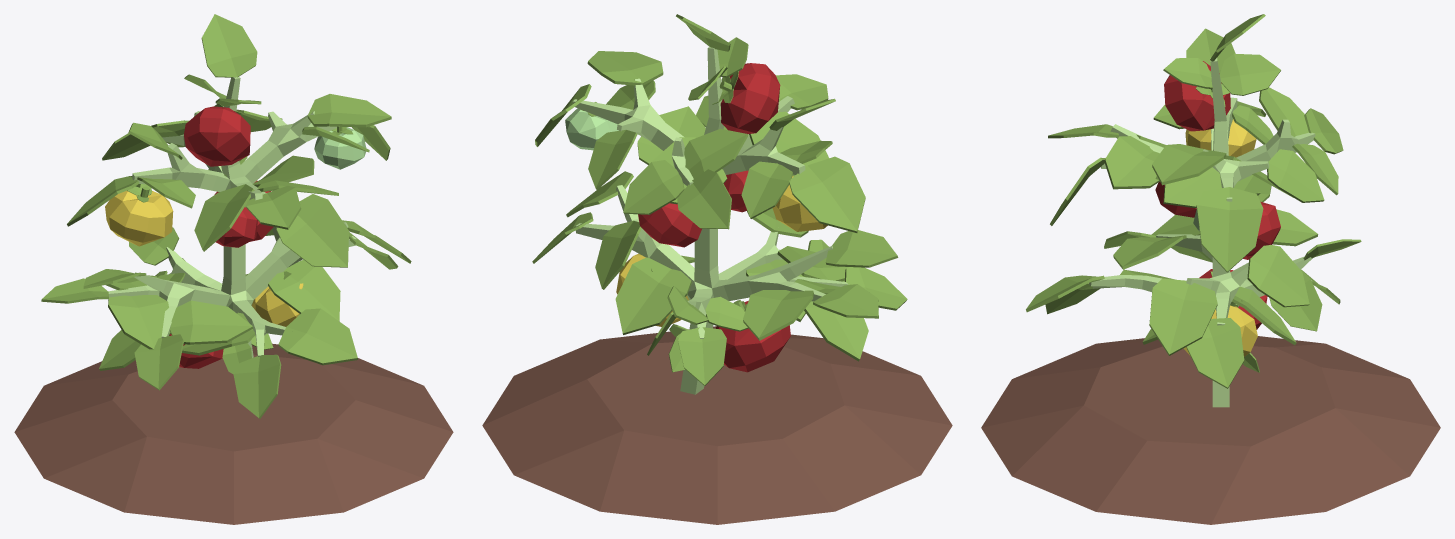
Rendered from TomatoStage2_Import.fbx.
3 views of the same model, side by side, from view 1: azimuth 30°, elevation 25°; view 2: azimuth 150°, elevation 25°; view 3: azimuth 270°, elevation 25° (orthographic). The views are drawn at different scales.
Visible parts, largest first — view 1: Cube.001, Cylinder.030, Cube.003, Sphere.034, Sphere.036, Sphere.030; view 2: Cube.001, Cylinder.030, Cube.003, Sphere.034, Sphere.036, Sphere.030; view 3: Cube.001, Cylinder.030, Cube.003, Sphere.034, Sphere.036.
Boxes of the visible parts, x1,y1,x2,y2 form: Cube.001: (14,343,453,524); Cylinder.030: (41,14,411,418); Cube.003: (103,77,356,357); Sphere.034: (169,106,273,368); Sphere.036: (105,190,303,326); Sphere.030: (314,127,366,169); Cube.001: (482,326,952,524); Cylinder.030: (532,14,907,385); Cube.003: (572,47,848,394); Sphere.034: (638,63,790,372); Sphere.036: (616,176,827,326); Sphere.030: (565,108,618,150); Cube.001: (981,336,1440,524); Cylinder.030: (1026,14,1361,388); Cube.003: (1089,58,1315,407); Sphere.034: (1155,61,1280,329); Sphere.036: (1183,119,1257,356).
Size of the model in its own units: 8469 by 8469 by 8473.
